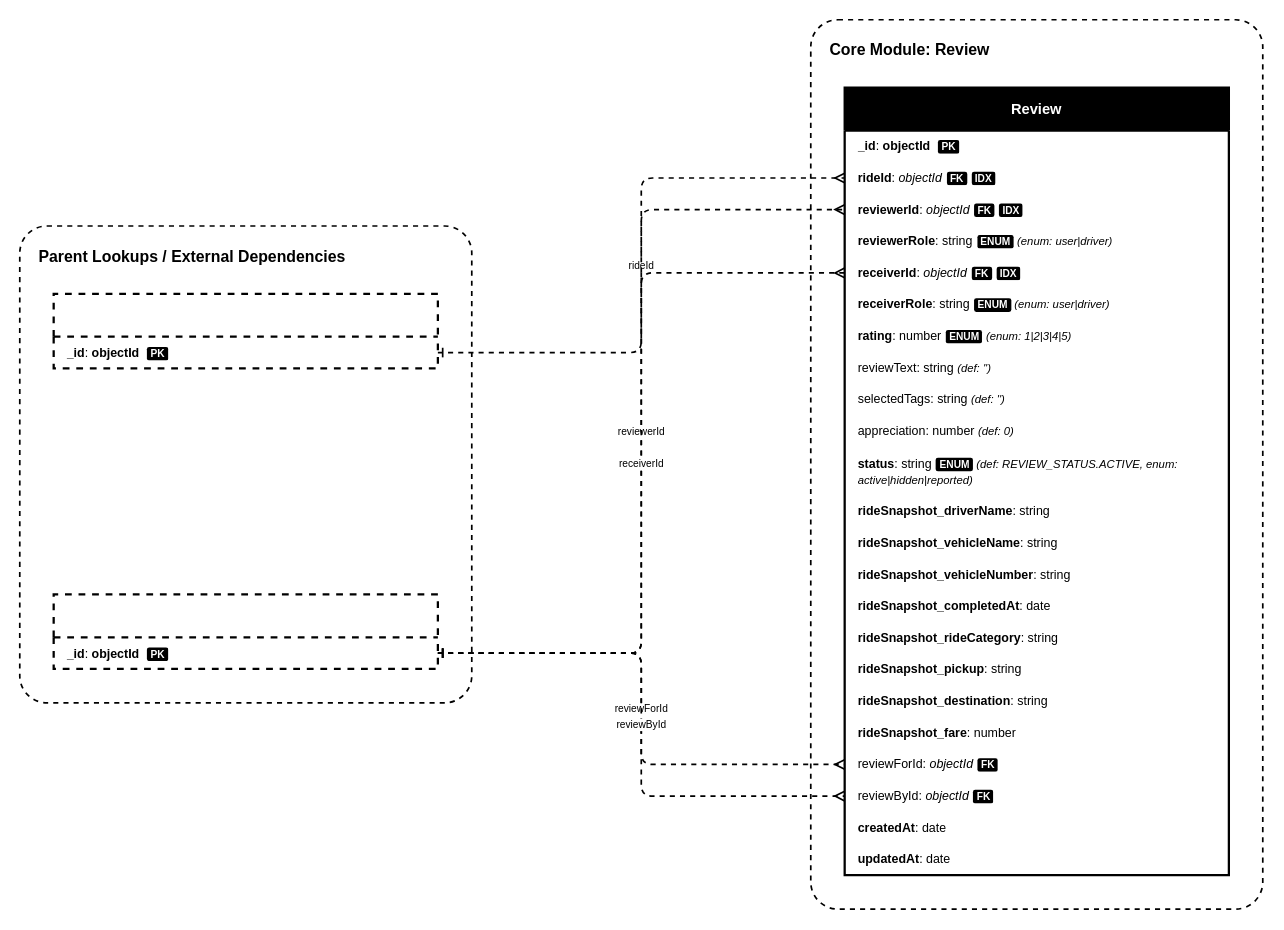
Some shapes in this 1284 by 930 pixel diagram are drawn without their labels. The shapes that lost their labels are listed below. From the top down, each one's box as (x1, y1, x2, y2) in pixels, then its label:
(52, 292, 438, 369): Ride
(52, 593, 438, 670): User
